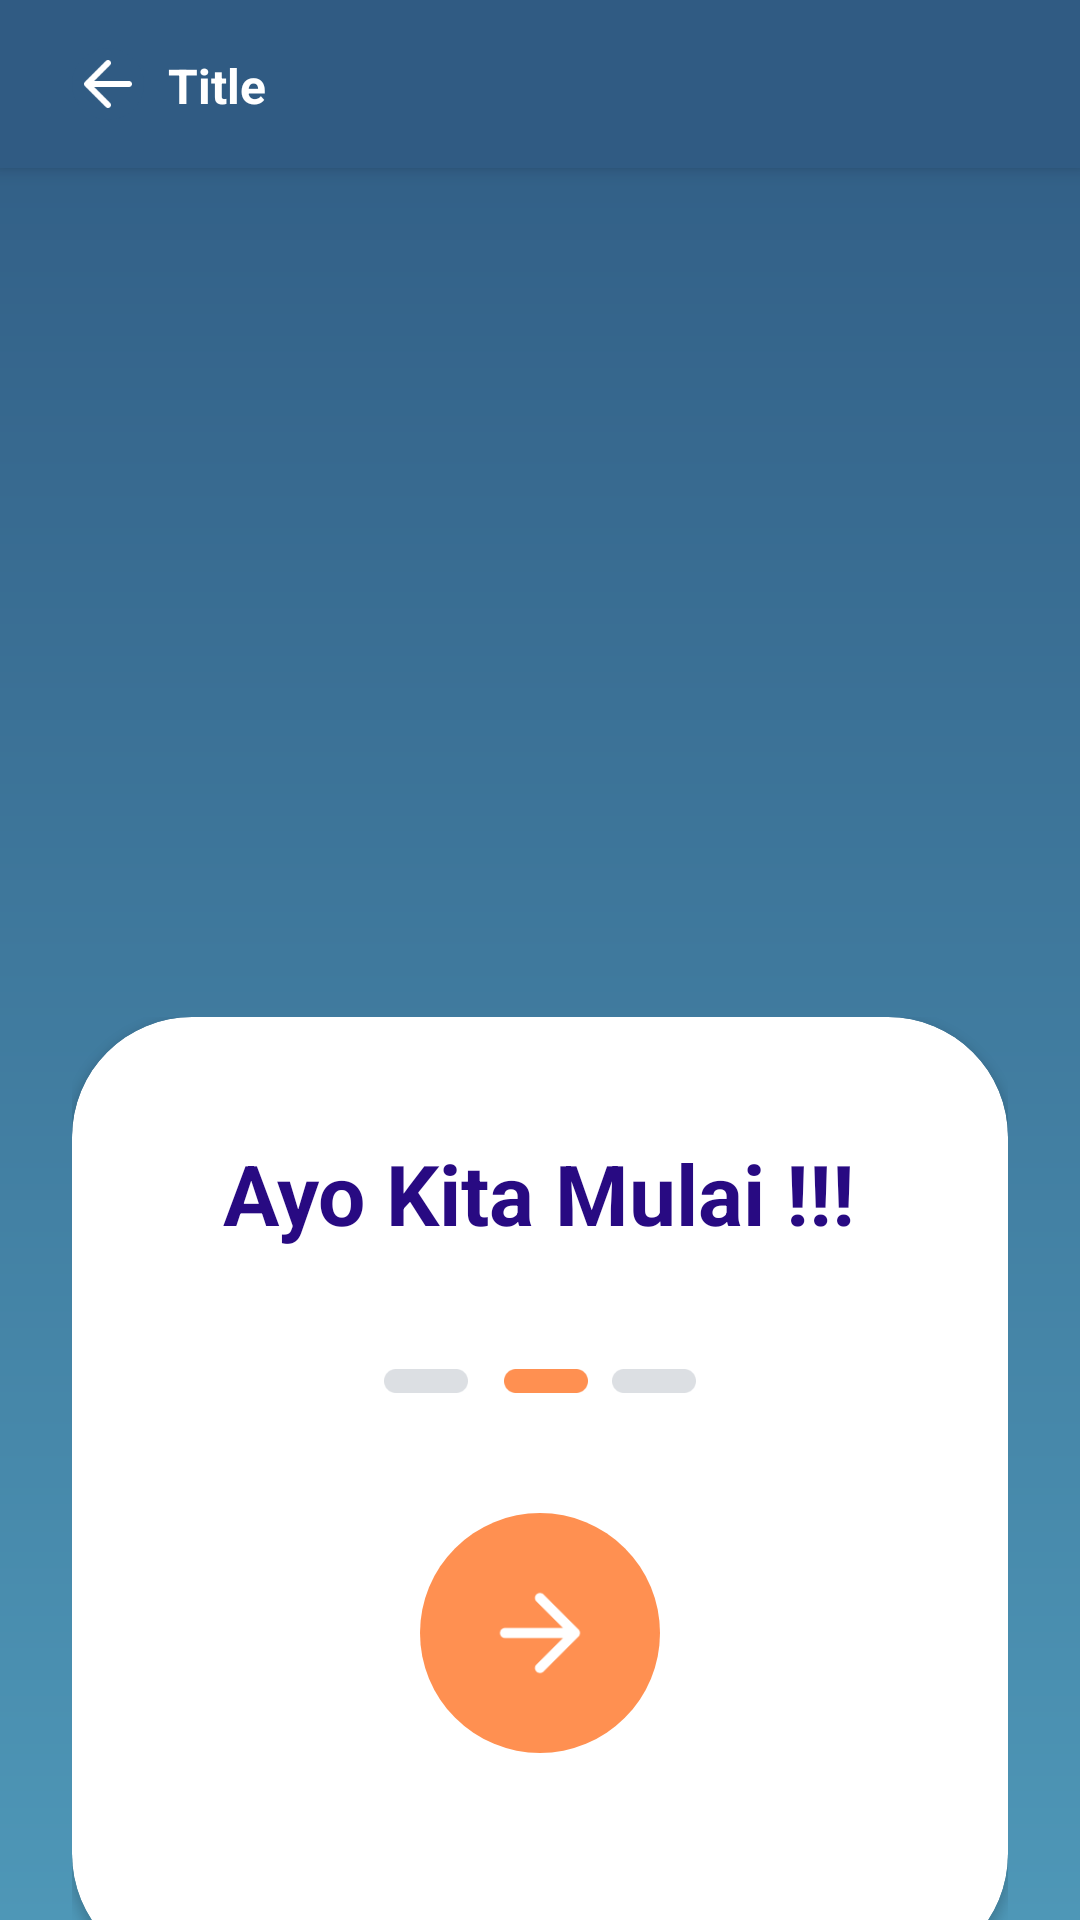

Point at icon controls on the screen. Image size 1080px×1920px, points as [x,y].
arrow left: [108,84]
arrow right: [540,1633]
